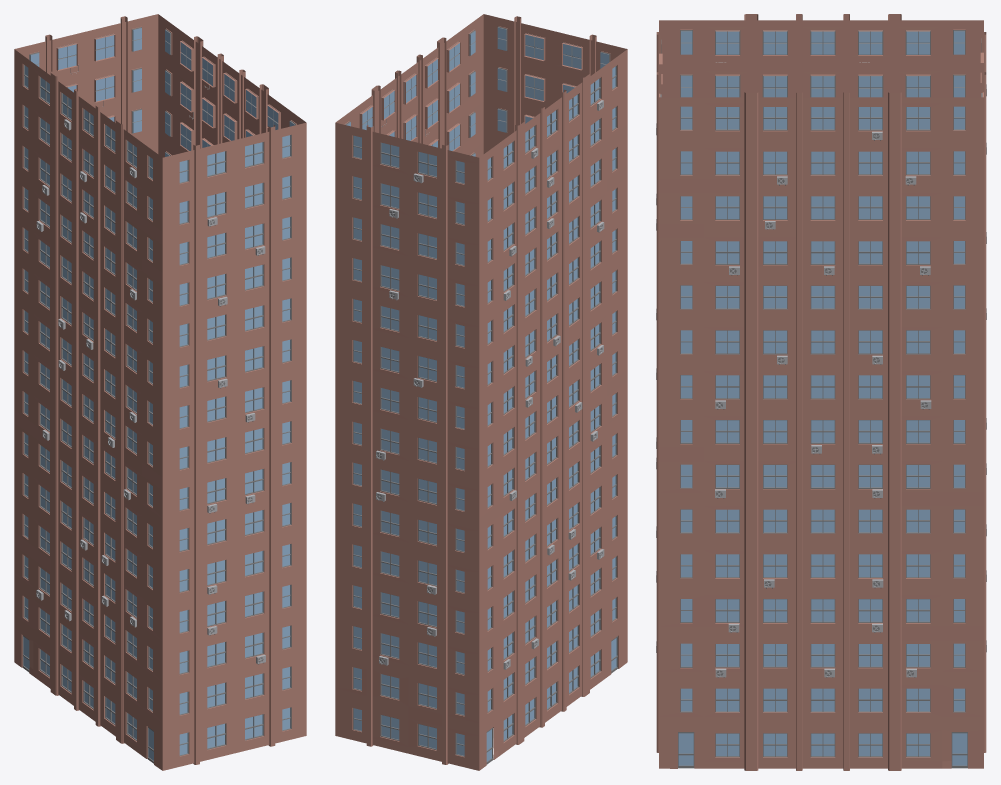
The model's file is cityscene2_13.gltf.
3 views of the same model, side by side, from view 1: azimuth 30°, elevation 25°; view 2: azimuth 150°, elevation 25°; view 3: azimuth 270°, elevation 25° (orthographic). The views are drawn at different scales.
Visible parts, largest first — view 1: cityscene2_13; view 2: cityscene2_13; view 3: cityscene2_13.
Part boxes in pixels (x1,y1,x2,y2): cityscene2_13: (14,14,306,770); cityscene2_13: (335,14,627,770); cityscene2_13: (656,14,986,770).
Bounding box in the file's own units: 7.27 × 28.95 × 12.8.
